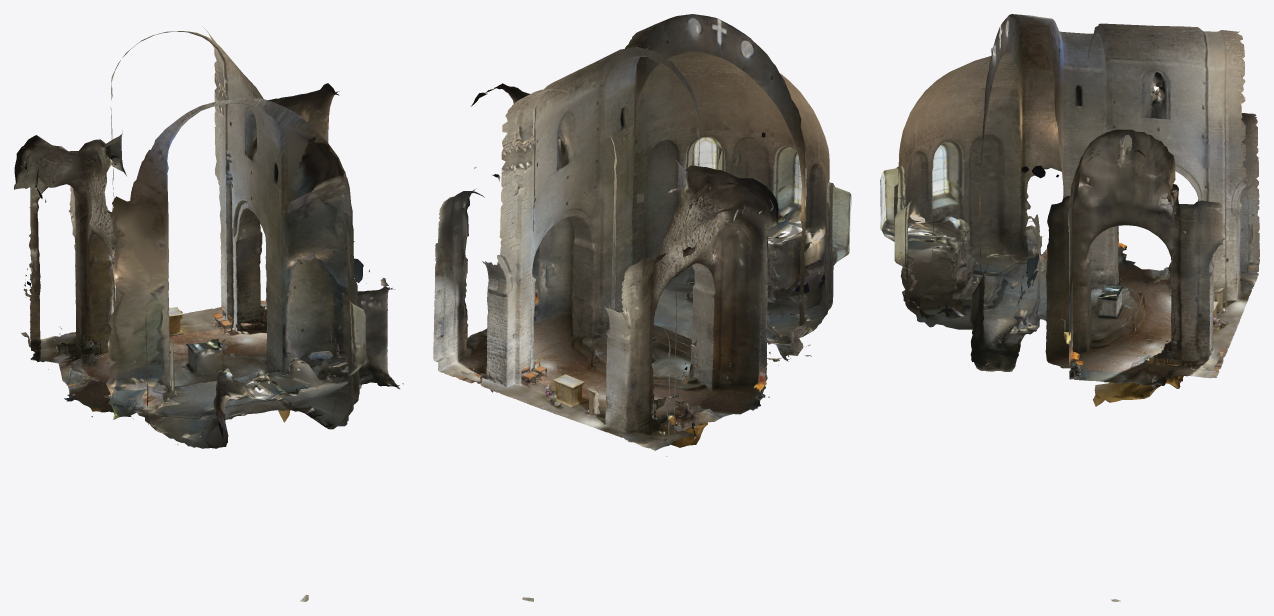
File: medium.glb
3 views of the same model, side by side, from view 1: azimuth 30°, elevation 25°; view 2: azimuth 150°, elevation 25°; view 3: azimuth 270°, elevation 25° (orthographic). The views are drawn at different scales.
Visible parts, largest first — view 1: medium.010; view 2: medium.010; view 3: medium.010.
Boxes of the visible parts, x1,y1,x2,y2 form: medium.010: [14, 27, 403, 601]; medium.010: [433, 14, 851, 601]; medium.010: [880, 14, 1259, 601].
Size of the model in its own units: 15.77 by 27.86 by 18.26.
Materials: 1 (1 with a texture image).
